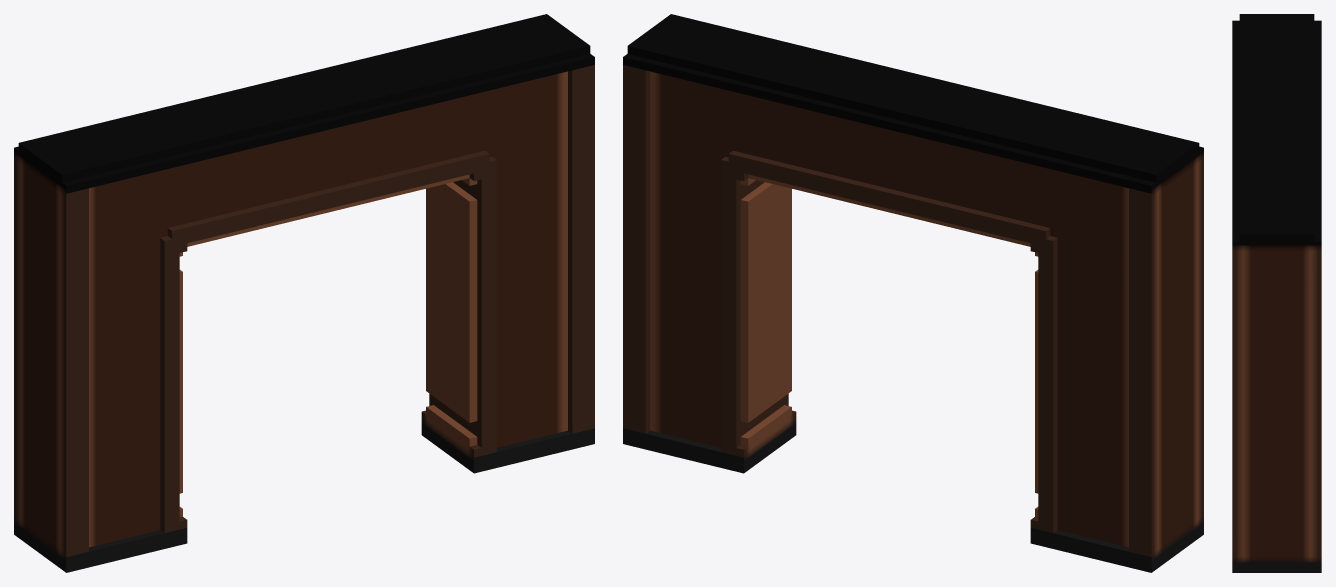
File: Door-Wood-Model-02.fbx
The picture shows the model from 3 angles, left to right: view 1: azimuth 30°, elevation 25°; view 2: azimuth 150°, elevation 25°; view 3: azimuth 270°, elevation 25°; orthographic projection. The views are drawn at different scales.
Parts seen in each view (by area): view 1: Door-Wood-Model-02; view 2: Door-Wood-Model-02; view 3: Door-Wood-Model-02.
Boxes of the visible parts, <box> form: Door-Wood-Model-02: <box>14,14,594,572</box>; Door-Wood-Model-02: <box>623,14,1203,572</box>; Door-Wood-Model-02: <box>1232,14,1321,572</box>.
Size of the model in its own units: 70 by 50 by 12.
1 material, 1 textured.
